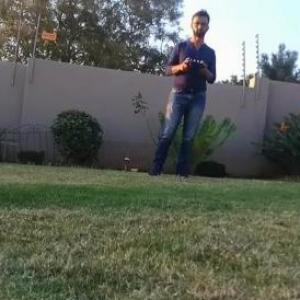follow: (141, 4, 220, 181)
